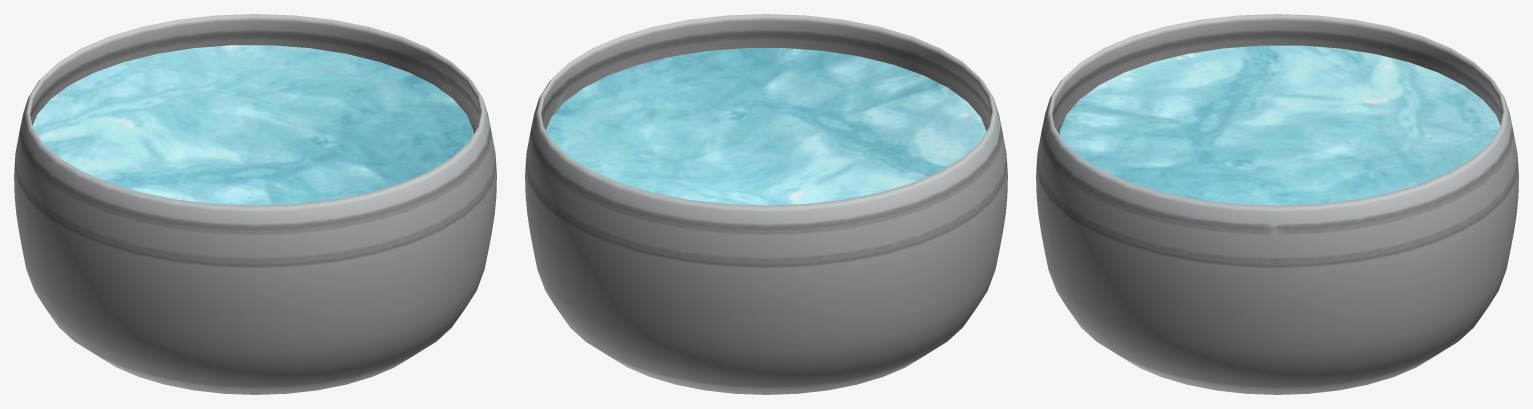
File: bucket.glb
The picture shows the model from 3 angles, left to right: view 1: azimuth 30°, elevation 25°; view 2: azimuth 150°, elevation 25°; view 3: azimuth 270°, elevation 25°; orthographic projection.
Parts seen in each view (by area): view 1: Cylinder001; view 2: Cylinder001; view 3: Cylinder001.
Part boxes in pixels (x1,y1,x2,y2): Cylinder001: (14, 14, 496, 394); Cylinder001: (525, 14, 1007, 394); Cylinder001: (1036, 14, 1518, 394).
Bounding box in the file's own units: 2 × 1.09 × 2.
1 material, 1 textured.
